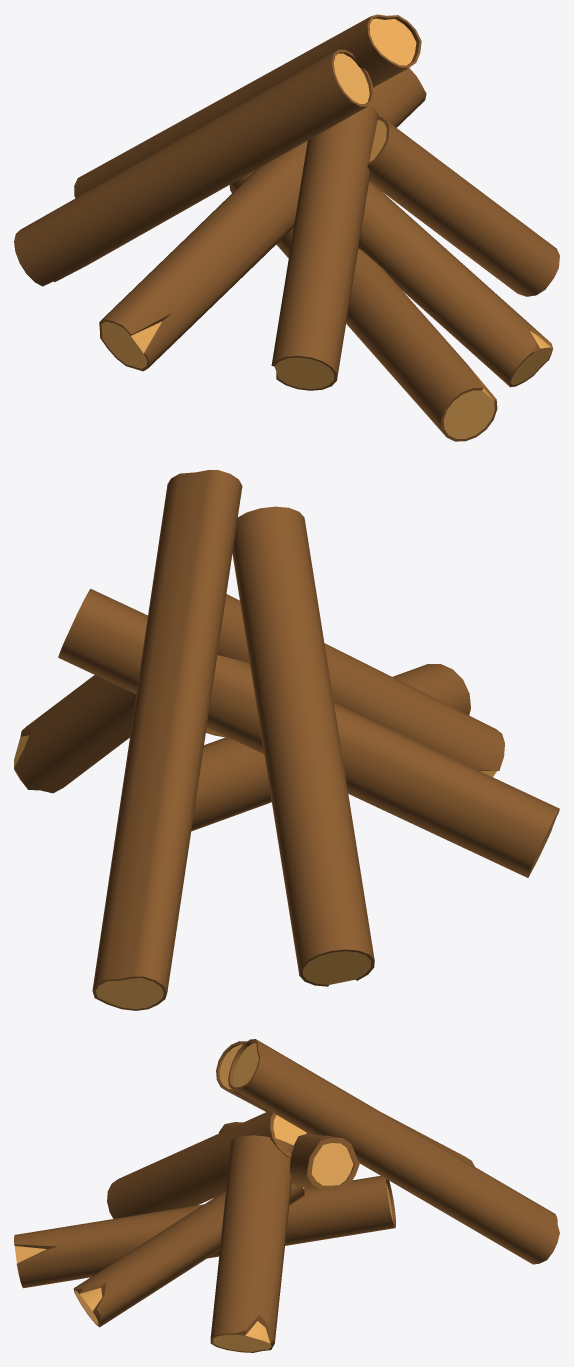
Rendered from huodui.FBX.
The picture shows the model from 3 angles, top to bottom: view 1: azimuth 30°, elevation 25°; view 2: azimuth 150°, elevation 25°; view 3: azimuth 270°, elevation 25°; orthographic projection. The views are drawn at different scales.
Parts seen in each view (by area): view 1: 火堆; view 2: 火堆; view 3: 火堆.
Part boxes in pixels (<box>): 火堆: <box>14,14,559,441</box>; 火堆: <box>14,470,559,1010</box>; 火堆: <box>14,1039,559,1352</box>.
Bounding box in the file's own units: 70.34 × 47.36 × 88.69.
